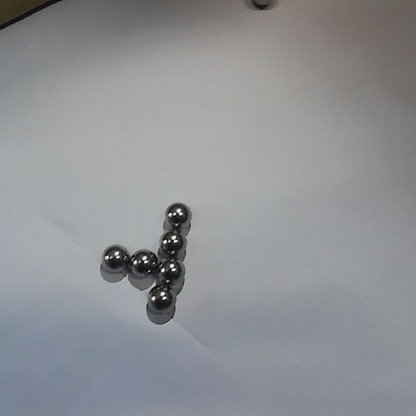ironball: (161, 199, 196, 231), (96, 241, 128, 276), (128, 242, 156, 281), (145, 284, 177, 315), (157, 254, 186, 287), (158, 233, 189, 259)
